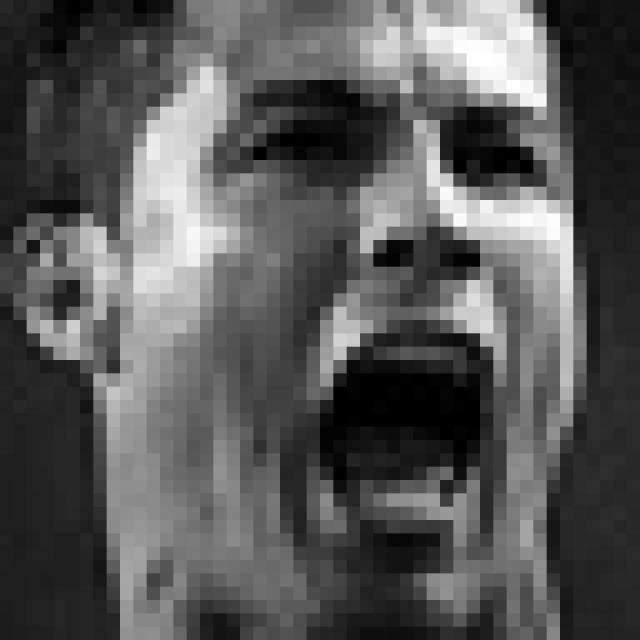angry: (233, 73, 562, 565)
